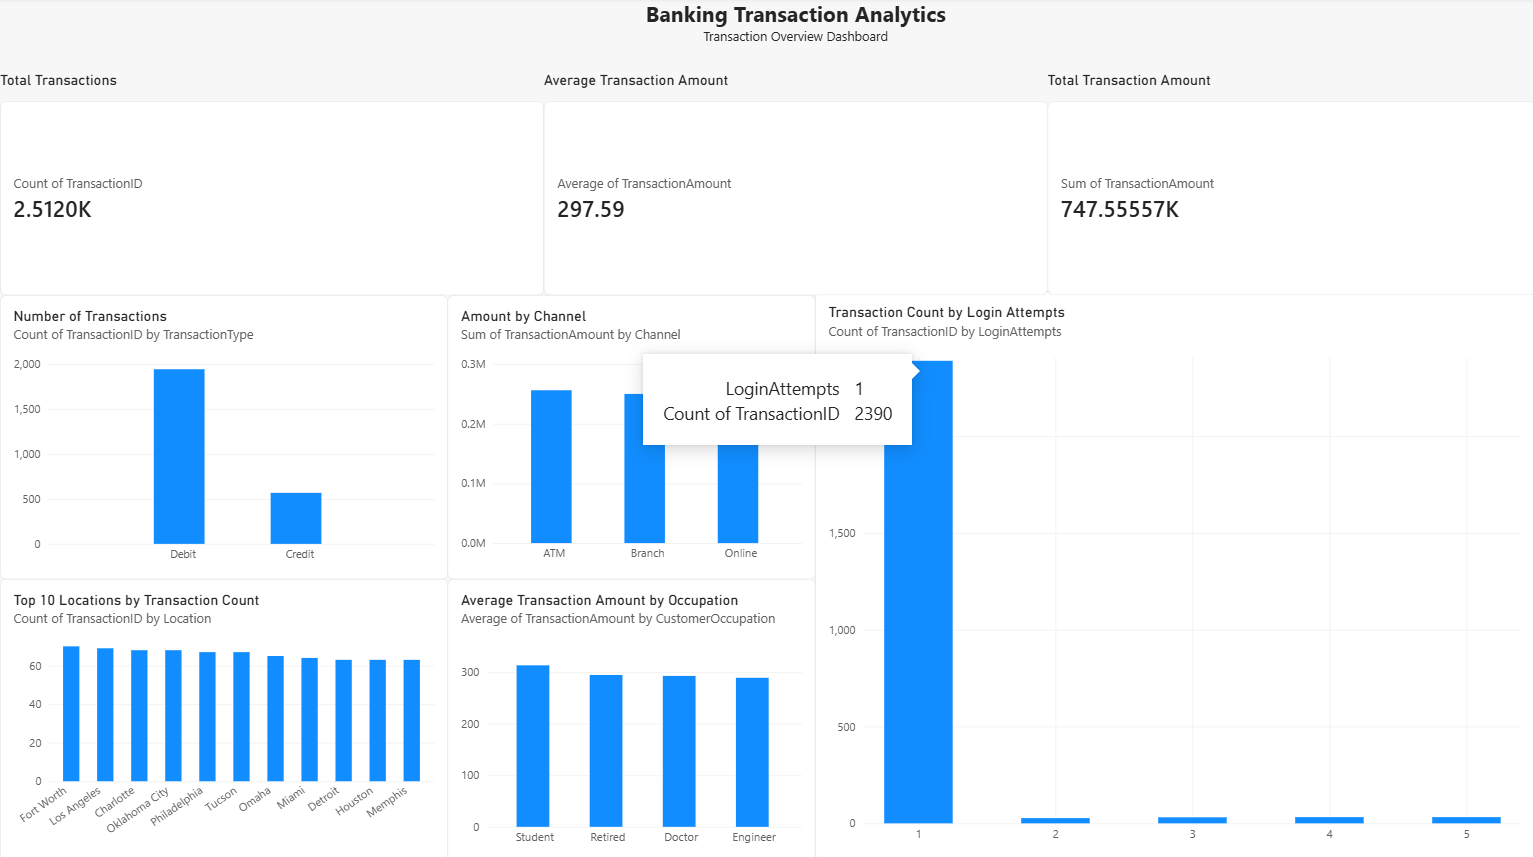

What the dashboard file says about the page in this screenshot:
{"tool":"powerbi","page":{"name":"Page 1","canvas":[1920,1080],"ordinal":0},"visuals":[{"type":"clusteredColumnChart","title":"Number of Transactions","fields":{"Category":["bank_transactions_data_2.TransactionType"],"Y":["CountNonNull(bank_transactions_data_2.TransactionID)"]},"box":[0,370,560,355],"z":0},{"type":"clusteredColumnChart","title":"Amount by Channel","fields":{"Category":["bank_transactions_data_2.Channel"],"Y":["Sum(bank_transactions_data_2.TransactionAmount)"]},"box":[560,370,460,355],"z":1000},{"type":"clusteredColumnChart","title":"Average Transaction Amount by Occupation","fields":{"Category":["bank_transactions_data_2.CustomerOccupation"],"Y":["Avg(bank_transactions_data_2.TransactionAmount)"]},"box":[560,725,460,355],"z":2000},{"type":"clusteredColumnChart","title":"Top 10 Locations by Transaction Count","fields":{"Category":["bank_transactions_data_2.Location"],"Y":["CountNonNull(bank_transactions_data_2.TransactionID)"]},"box":[0,725,560,355],"z":3000},{"type":"clusteredColumnChart","title":"Transaction Count by Login Attempts","fields":{"Category":["bank_transactions_data_2.LoginAttempts"],"Y":["CountNonNull(bank_transactions_data_2.TransactionID)"]},"box":[1019.2,365.4,900,710],"z":4000},{"type":"cardVisual","title":"Total Transactions","fields":{"Data":["CountNonNull(bank_transactions_data_2.TransactionID)"]},"box":[0,90,680,280],"z":5000},{"type":"cardVisual","title":"Total Transaction Amount","fields":{"Data":["Sum(bank_transactions_data_2.TransactionAmount)"]},"box":[1310,90,610,280],"z":6000},{"type":"cardVisual","title":"Average Transaction Amount","fields":{"Data":["Avg(bank_transactions_data_2.TransactionAmount)"]},"box":[680,90,630,280],"z":7000},{"type":"textbox","box":[680,0,630,110],"z":8000}]}

Visuals, with their boxes in screenshot pixels (x1, y1, x2, y2), scaled from the page's 1920x1080 canvas onto the 1533x857 screenshot:
"Number of Transactions" clusteredColumnChart: [0,294,447,575]
"Amount by Channel" clusteredColumnChart: [447,294,814,575]
"Average Transaction Amount by Occupation" clusteredColumnChart: [447,575,814,856]
"Top 10 Locations by Transaction Count" clusteredColumnChart: [0,575,447,856]
"Transaction Count by Login Attempts" clusteredColumnChart: [814,290,1532,853]
"Total Transactions" cardVisual: [0,71,543,294]
"Total Transaction Amount" cardVisual: [1046,71,1532,294]
"Average Transaction Amount" cardVisual: [543,71,1046,294]
textbox: [543,0,1046,87]
